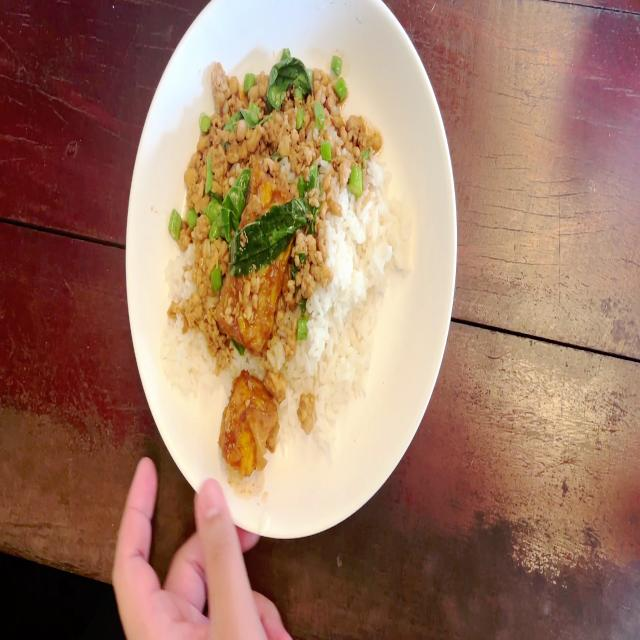fried_tofo: (233, 184, 295, 336), (228, 377, 274, 460)
minced_pork: (233, 52, 373, 185), (189, 45, 235, 352), (298, 168, 326, 357)
rice: (326, 165, 404, 433), (257, 336, 327, 380), (167, 325, 197, 388), (309, 288, 330, 355)
stir_fried_basil: (166, 45, 407, 482)
